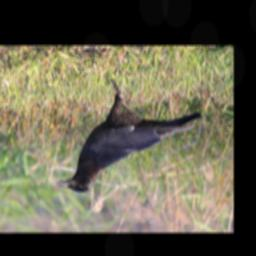Crow: (54, 75, 204, 194)
